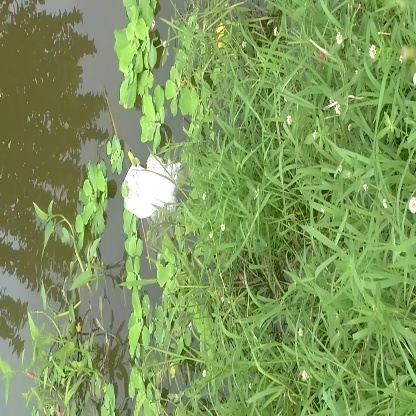plastic-bag: (115, 156, 186, 216)
